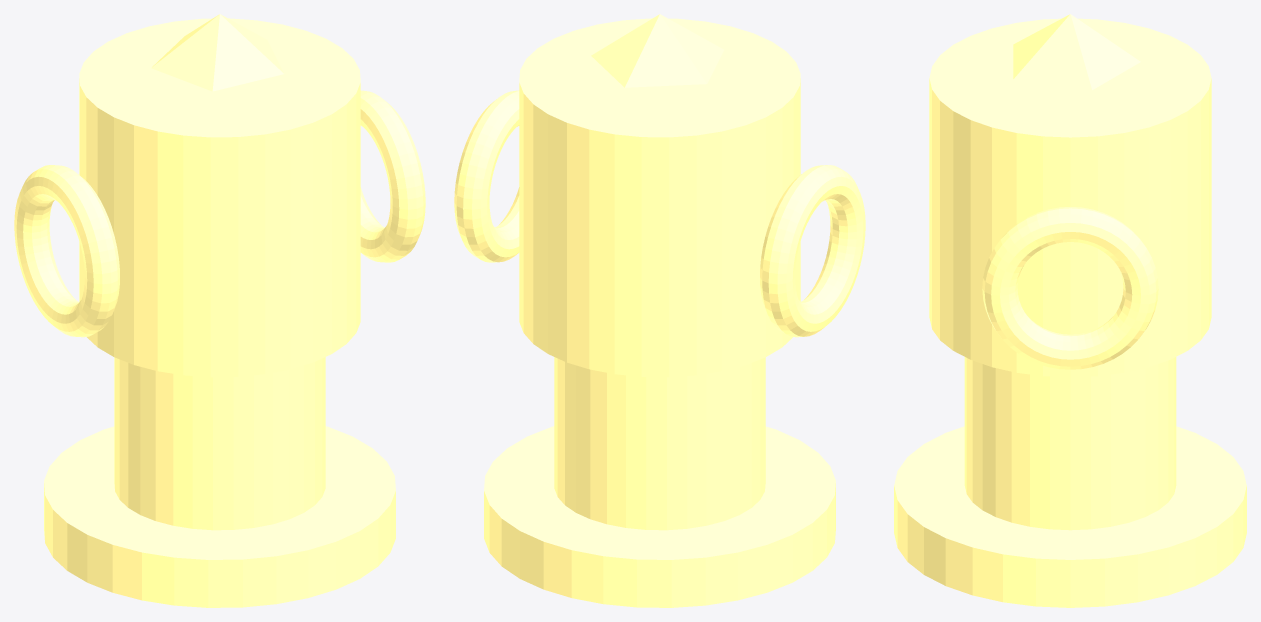
The model's file is trophy_champion.glb.
The picture shows the model from 3 angles, left to right: view 1: azimuth 30°, elevation 25°; view 2: azimuth 150°, elevation 25°; view 3: azimuth 270°, elevation 25°; orthographic projection.
Visible parts, largest first — view 1: Cylinder.002, Cylinder, Cylinder.001, Torus.008, Torus.009, Cone; view 2: Cylinder.002, Cylinder, Cylinder.001, Torus.008, Torus.009, Cone; view 3: Cylinder.002, Cylinder, Cylinder.001, Torus.009, Cone.
Boxes of the visible parts, left/top/right/bottom form: Cylinder.002: left=79, top=18, right=360, bottom=377; Cylinder: left=44, top=426, right=395, bottom=607; Cylinder.001: left=114, top=357, right=325, bottom=530; Torus.008: left=14, top=165, right=119, bottom=337; Torus.009: left=360, top=90, right=425, bottom=262; Cone: left=151, top=14, right=283, bottom=91; Cylinder.002: left=519, top=18, right=800, bottom=377; Cylinder: left=484, top=426, right=835, bottom=607; Cylinder.001: left=554, top=357, right=765, bottom=530; Torus.008: left=760, top=165, right=865, bottom=337; Torus.009: left=454, top=90, right=519, bottom=262; Cone: left=591, top=14, right=723, bottom=87; Cylinder.002: left=929, top=18, right=1211, bottom=377; Cylinder: left=894, top=426, right=1246, bottom=607; Cylinder.001: left=964, top=357, right=1176, bottom=530; Torus.009: left=982, top=207, right=1158, bottom=369; Cone: left=1013, top=14, right=1140, bottom=90.
Size of the model in its own units: 0.22 by 0.325 by 0.2.
